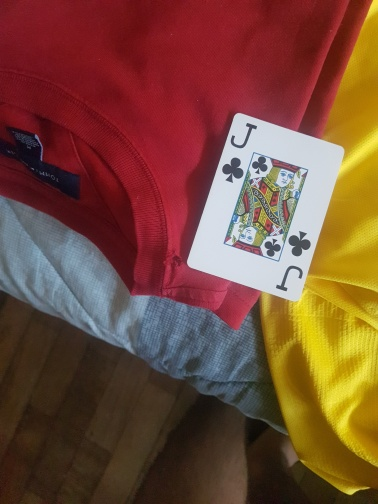jack: (188, 112, 346, 304)
